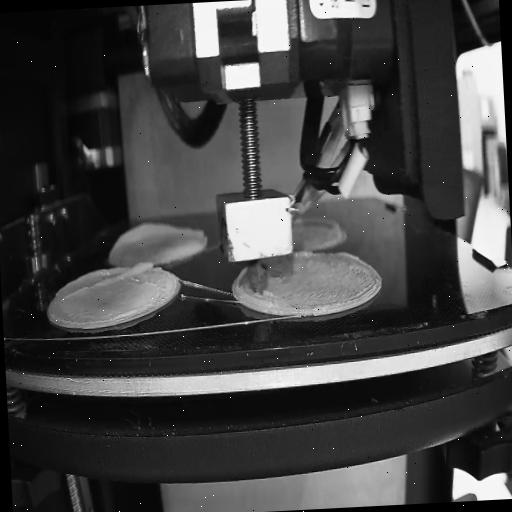over_extrusion: (61, 256, 157, 299), (109, 216, 207, 253), (231, 266, 273, 310), (294, 214, 344, 242), (328, 249, 362, 264)
